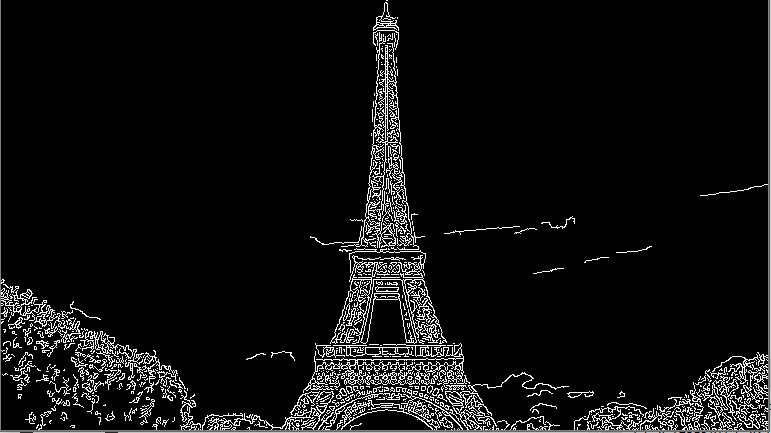eiffel tower: (267, 7, 501, 433)
